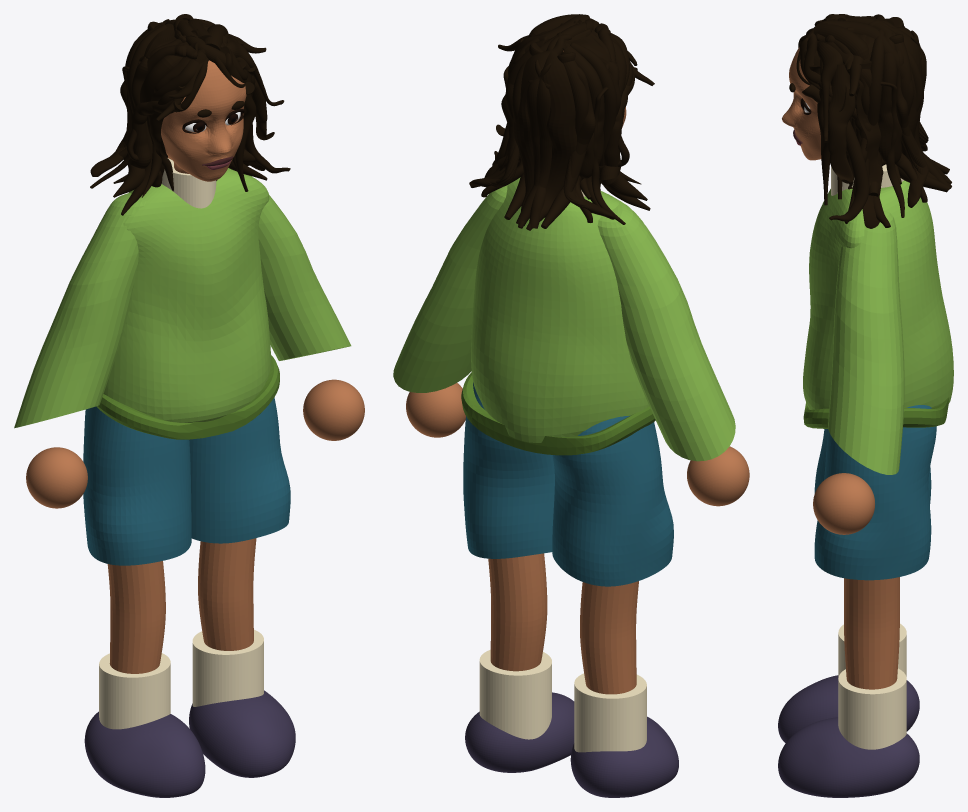
3 views of the same model, side by side, from view 1: azimuth 30°, elevation 25°; view 2: azimuth 150°, elevation 25°; view 3: azimuth 270°, elevation 25° (orthographic).
Parts seen in each view (by area): view 1: Lathe (×3), Tube (×17), Quad Sphere (×4), Cylinder (×4), Head; view 2: Tube (×19), Lathe (×3), Quad Sphere (×4), Cylinder (×3); view 3: Tube (×21), Lathe (×3), Quad Sphere (×3), Cylinder (×4), Head.
Boxes of the visible parts, x1,y1,x2,y2 form: Lathe (×3): (83, 168, 290, 565); Tube (×17): (14, 19, 351, 673); Quad Sphere (×4): (26, 379, 364, 797); Cylinder (×4): (96, 158, 279, 729); Head: (161, 60, 246, 181); Tube (×19): (393, 15, 735, 694); Lathe (×3): (463, 177, 673, 586); Quad Sphere (×4): (406, 383, 749, 797); Cylinder (×3): (461, 372, 655, 752); Tube (×21): (802, 16, 951, 689); Lathe (×3): (803, 180, 953, 580); Quad Sphere (×3): (778, 473, 919, 797); Cylinder (×4): (803, 164, 948, 749); Head: (782, 47, 821, 160).
Bounding box in the file's own units: 2.51 × 5.37 × 1.15.
